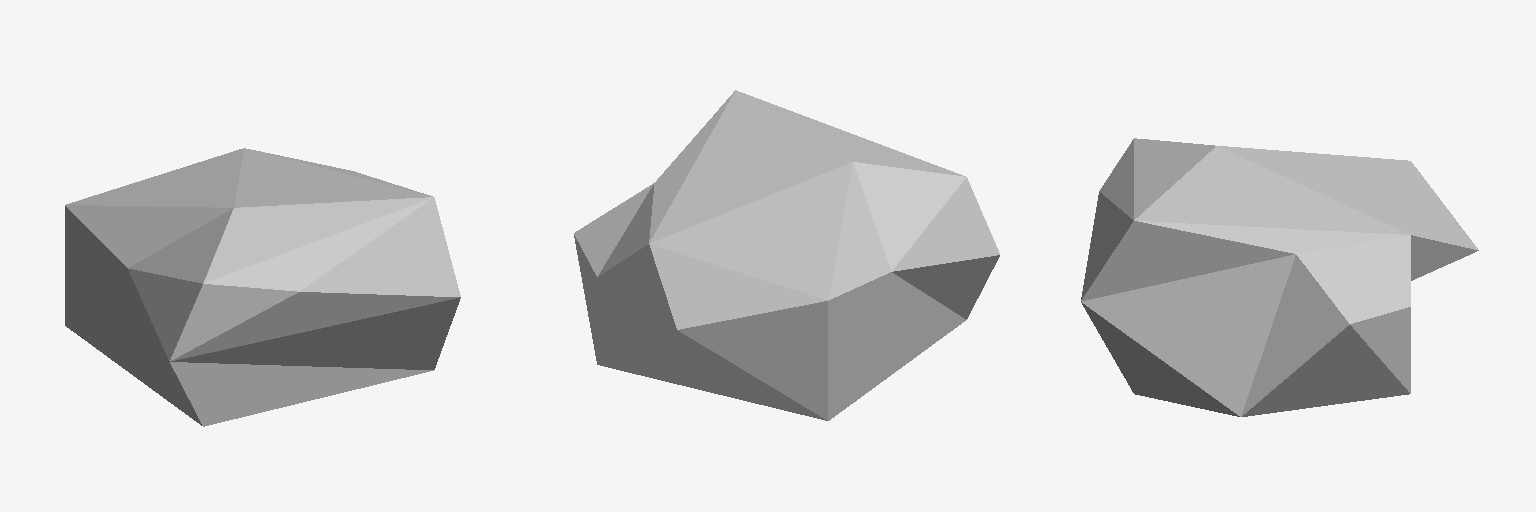
The model's file is rock_4.obj.
3 renders of one model, left to right at view 1: azimuth 30°, elevation 25°; view 2: azimuth 150°, elevation 25°; view 3: azimuth 270°, elevation 25°, orthographic.
Visible parts, largest first — view 1: rock_4; view 2: rock_4; view 3: rock_4.
Part boxes in pixels (left/top/right/bottom): rock_4: left=65, top=148, right=460, bottom=426; rock_4: left=574, top=90, right=999, bottom=420; rock_4: left=1081, top=138, right=1478, bottom=416.
Bounding box in the file's own units: 0.1671 × 0.0868 × 0.1809.